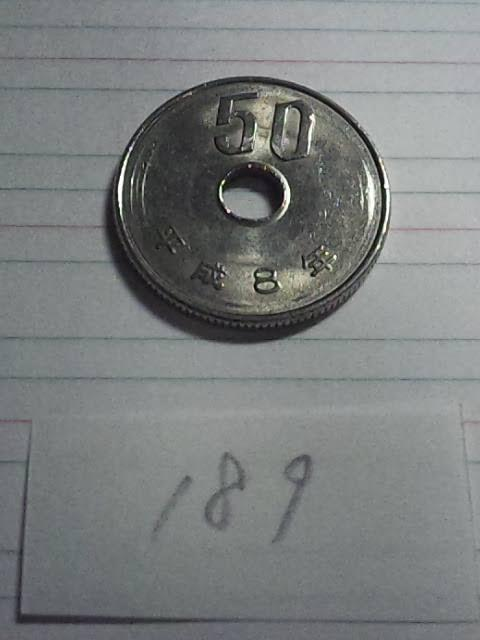year: (142, 216, 344, 314)
